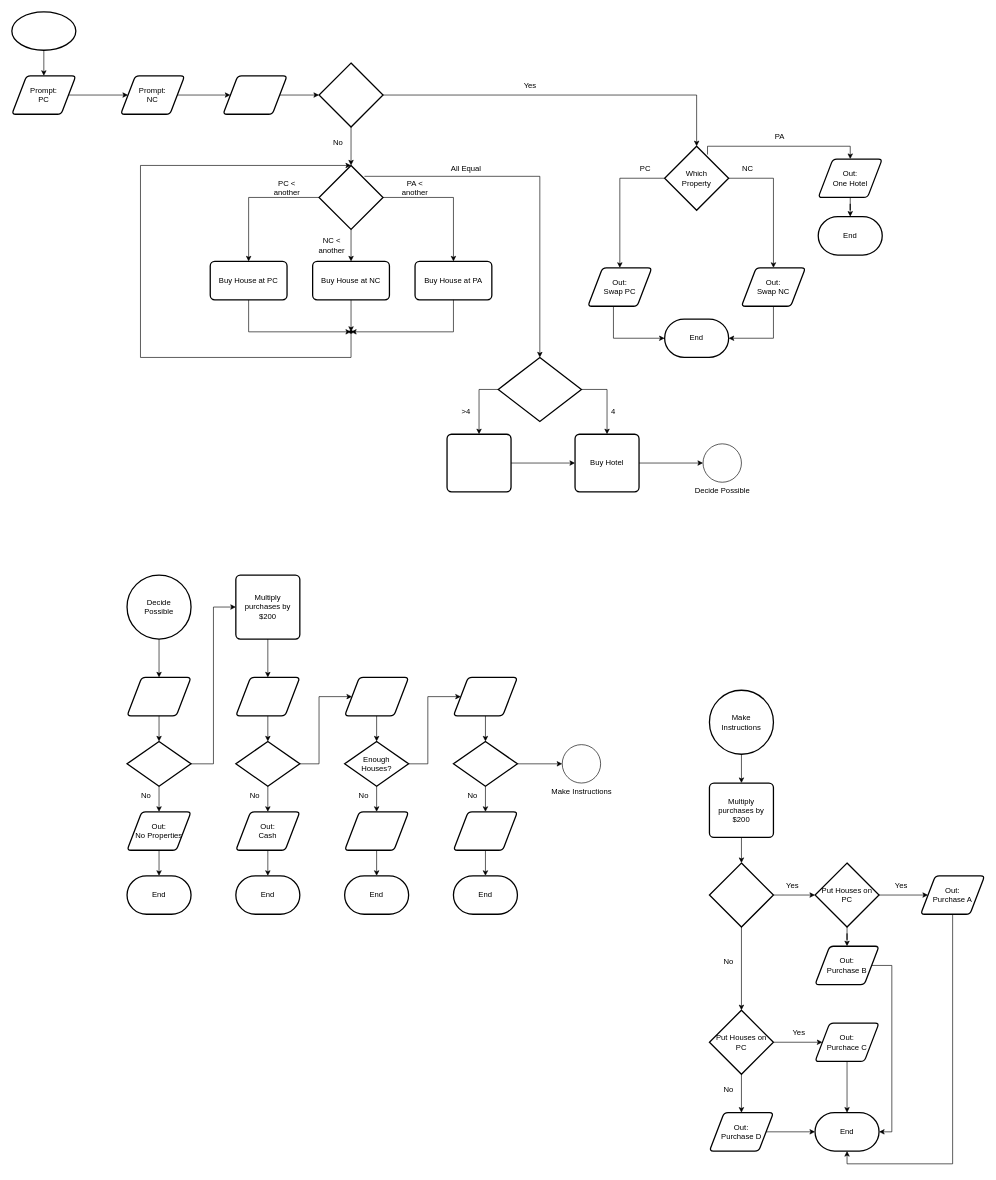
The diagram is 996 pixels wide and 1180 high, and some of its shapes have lost their labels. Each missing label, with the centre of its shape:
"Available Hotel?" belongs at (485,763).
"Buy remaining houses" belongs at (478,462).
"Compare Houses" belongs at (350,197).
"Enough Money?" belongs at (267,763).
"How many Houses in each" belongs at (539,389).
"Is there a Hotel?" belongs at (350,94).
"Out: No Hotels" belongs at (485,831).
"Out: No Houses" belongs at (376,831).
"Own All?" belongs at (158,763).
"Prompt: Cash" belongs at (267,696).
"Prompt: Color Group" belongs at (158,696).
"Prompt: Hotels" belongs at (485,696).
"Prompt: Houses" belongs at (376,696).
"Prompt: PA" belongs at (254,95).
"Put Houses on NC" belongs at (741,894).
"Start" belongs at (43,31).
